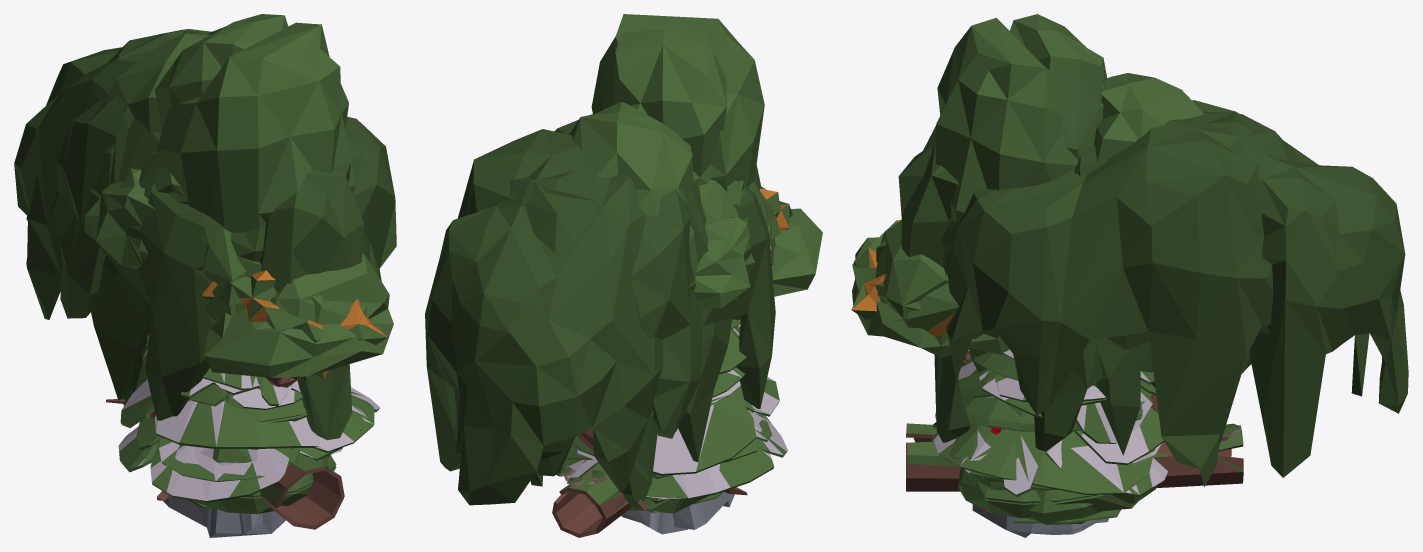
The model's file is nature.glb.
The picture shows the model from 3 angles, left to right: view 1: azimuth 30°, elevation 25°; view 2: azimuth 150°, elevation 25°; view 3: azimuth 270°, elevation 25°; orthographic projection. The views are drawn at different scales.
Parts seen in each view (by area): view 1: BirchTree_2, Willow_4, Willow_2, CommonTree_1, CommonTree_2, PineTree_2, BirchTree_3, PineTree_Snow_3, CommonTree_4, BirchTree_1, PineTree_1, PineTree_Snow_2 (+11 smaller); view 2: Willow_2, Willow_4, BirchTree_3, BirchTree_2, BirchTree_1, CommonTree_4, PineTree_2, CommonTree_1, PineTree_3, PineTree_Snow_3, CommonTree_2, PineTree_Snow_2 (+7 smaller); view 3: Willow_4, Willow_2, BirchTree_2, CommonTree_1, BirchTree_1, BirchTree_3, PineTree_1, Willow_1, PineTree_Snow_3, WoodLog, PineTree_3, WoodLog_Moss (+11 smaller).
Part boxes in pixels (x1,y1,x2,y2): BirchTree_2: (156, 22, 363, 379); Willow_4: (56, 27, 396, 440); Willow_2: (14, 29, 211, 400); CommonTree_1: (204, 254, 393, 378); CommonTree_2: (139, 151, 387, 387); PineTree_2: (120, 336, 318, 449); BirchTree_3: (155, 14, 288, 204); PineTree_Snow_3: (118, 345, 379, 502); CommonTree_4: (84, 168, 156, 269); BirchTree_1: (102, 33, 209, 190); PineTree_1: (136, 384, 374, 481); PineTree_Snow_2: (122, 335, 320, 446); Willow_2: (425, 171, 731, 505); Willow_4: (457, 114, 775, 459); BirchTree_3: (602, 29, 746, 197); BirchTree_2: (591, 14, 764, 192); BirchTree_1: (569, 102, 698, 278); CommonTree_4: (694, 216, 754, 308); PineTree_2: (572, 326, 779, 475); CommonTree_1: (761, 186, 822, 296); PineTree_3: (562, 367, 786, 499); PineTree_Snow_3: (566, 370, 787, 499); CommonTree_2: (699, 180, 792, 250); PineTree_Snow_2: (653, 325, 779, 473); Willow_4: (934, 111, 1297, 468); Willow_2: (1074, 100, 1408, 477); BirchTree_2: (898, 17, 1078, 267); CommonTree_1: (852, 220, 1149, 360); BirchTree_1: (1094, 73, 1204, 387); BirchTree_3: (1010, 14, 1107, 159); PineTree_1: (933, 353, 1156, 494); Willow_1: (969, 339, 1251, 486); PineTree_Snow_3: (933, 350, 1167, 497); WoodLog: (906, 417, 1243, 491); PineTree_3: (932, 368, 1152, 495); WoodLog_Moss: (906, 423, 1243, 489).
Bounding box in the file's own units: 2.35 × 4.32 × 4.41.
